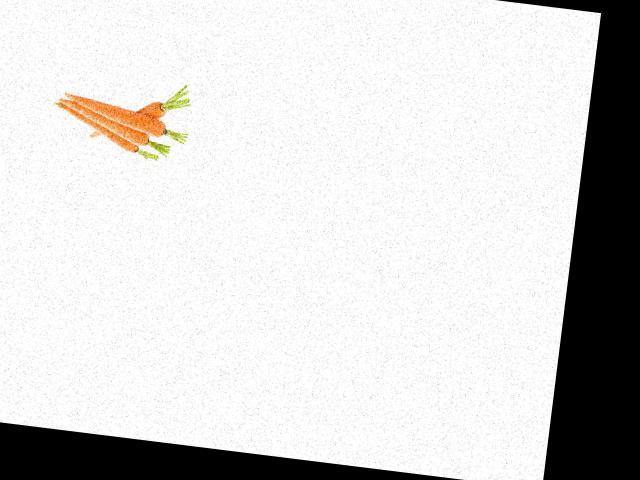carrot: (132, 87, 181, 127)
